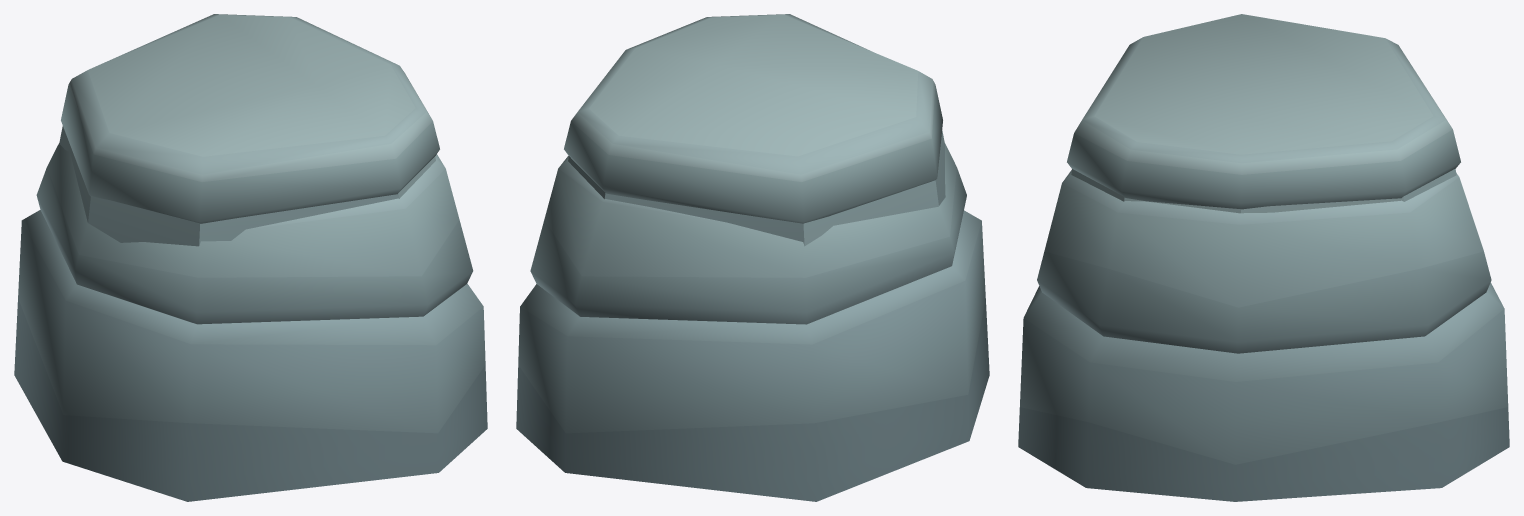
The model's file is rock 01.fbx.
3 renders of one model, left to right at view 1: azimuth 30°, elevation 25°; view 2: azimuth 150°, elevation 25°; view 3: azimuth 270°, elevation 25°, orthographic. The views are drawn at different scales.
Parts seen in each view (by area): view 1: rock 01, rock 01 low; view 2: rock 01, rock 01 low; view 3: rock 01, rock 01 low.
Boxes of the visible parts, x1,y1,x2,y2 form: rock 01: (14,14,487,501); rock 01 low: (59,126,435,246); rock 01: (516,14,989,501); rock 01 low: (568,130,945,246); rock 01: (1018,14,1509,501); rock 01 low: (1071,168,1456,213).
Bounding box in the file's own units: 253 × 200 × 276.
1 material, 1 textured.
